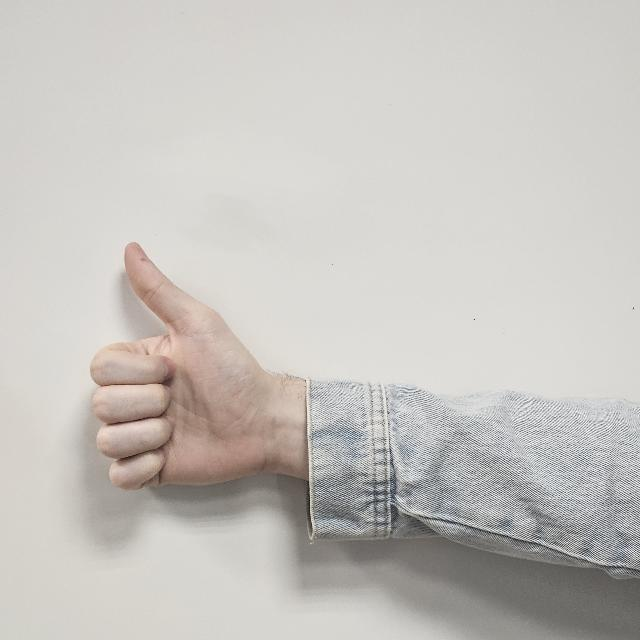Start: (91, 240, 267, 510)
